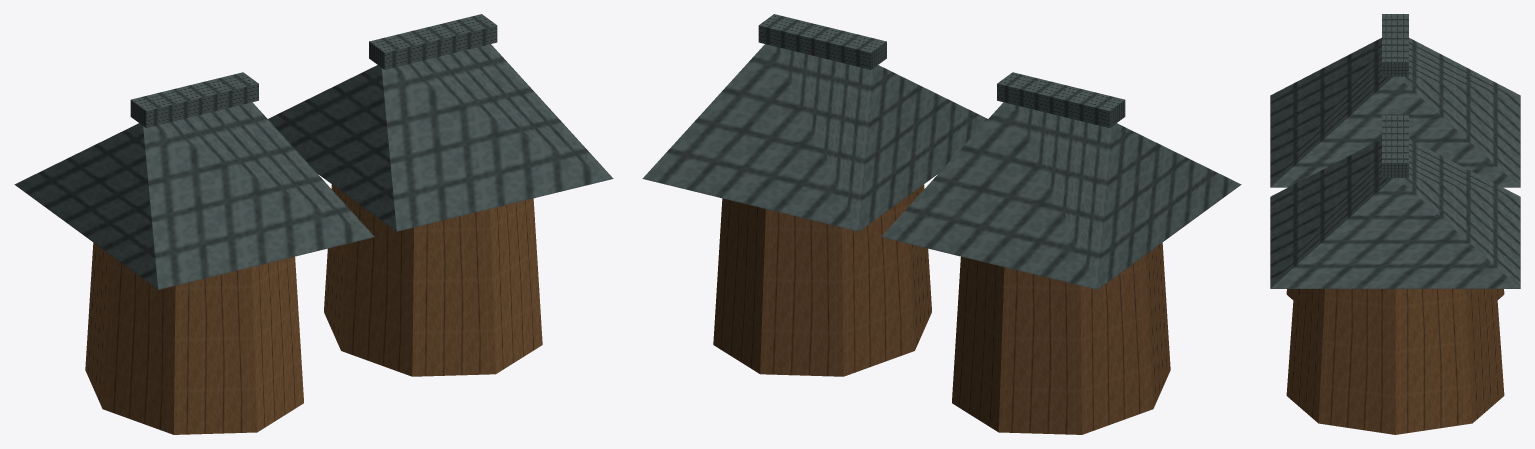
File: domestic-GRANARY-1-lod0.glb
3 renders of one model, left to right at view 1: azimuth 30°, elevation 25°; view 2: azimuth 150°, elevation 25°; view 3: azimuth 270°, elevation 25°, orthographic. The views are drawn at different scales.
Size of the model in its own units: 0.84 by 0.52 by 0.46.
1 material, 1 textured.
